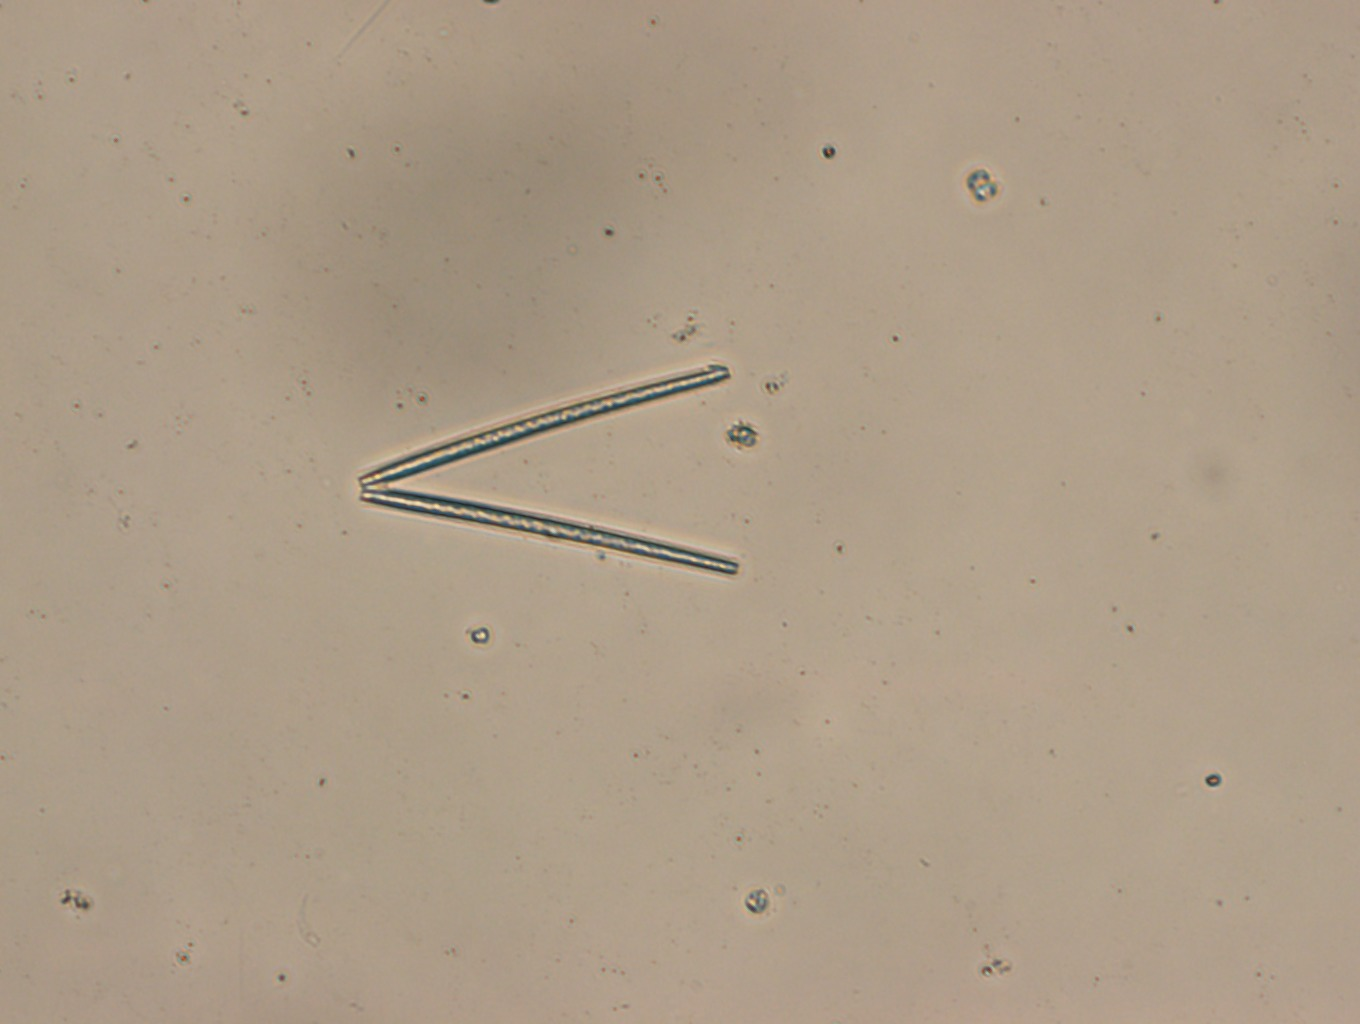thalassionema frauenfeldii: (352, 349, 747, 586)
